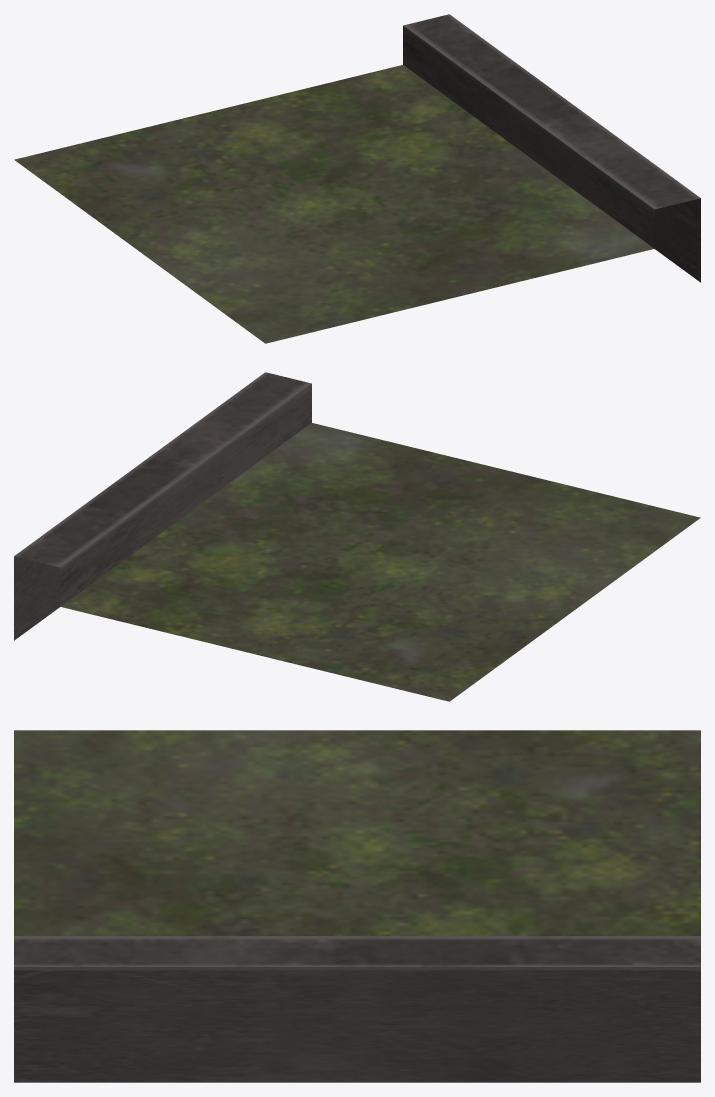
Rendered from Modular garden 1 sides.fbx.
The picture shows the model from 3 angles, top to bottom: view 1: azimuth 30°, elevation 25°; view 2: azimuth 150°, elevation 25°; view 3: azimuth 270°, elevation 25°; orthographic projection. The views are drawn at different scales.
Parts seen in each view (by area): view 1: Jardim vazado 3; view 2: Jardim vazado 3; view 3: Jardim vazado 3.
Part boxes in pixels (left/top/right/bottom): Jardim vazado 3: left=14, top=14, right=700, bottom=343; Jardim vazado 3: left=14, top=372, right=700, bottom=701; Jardim vazado 3: left=14, top=730, right=700, bottom=1082.
Size of the model in its own units: 144 by 26.77 by 144.
